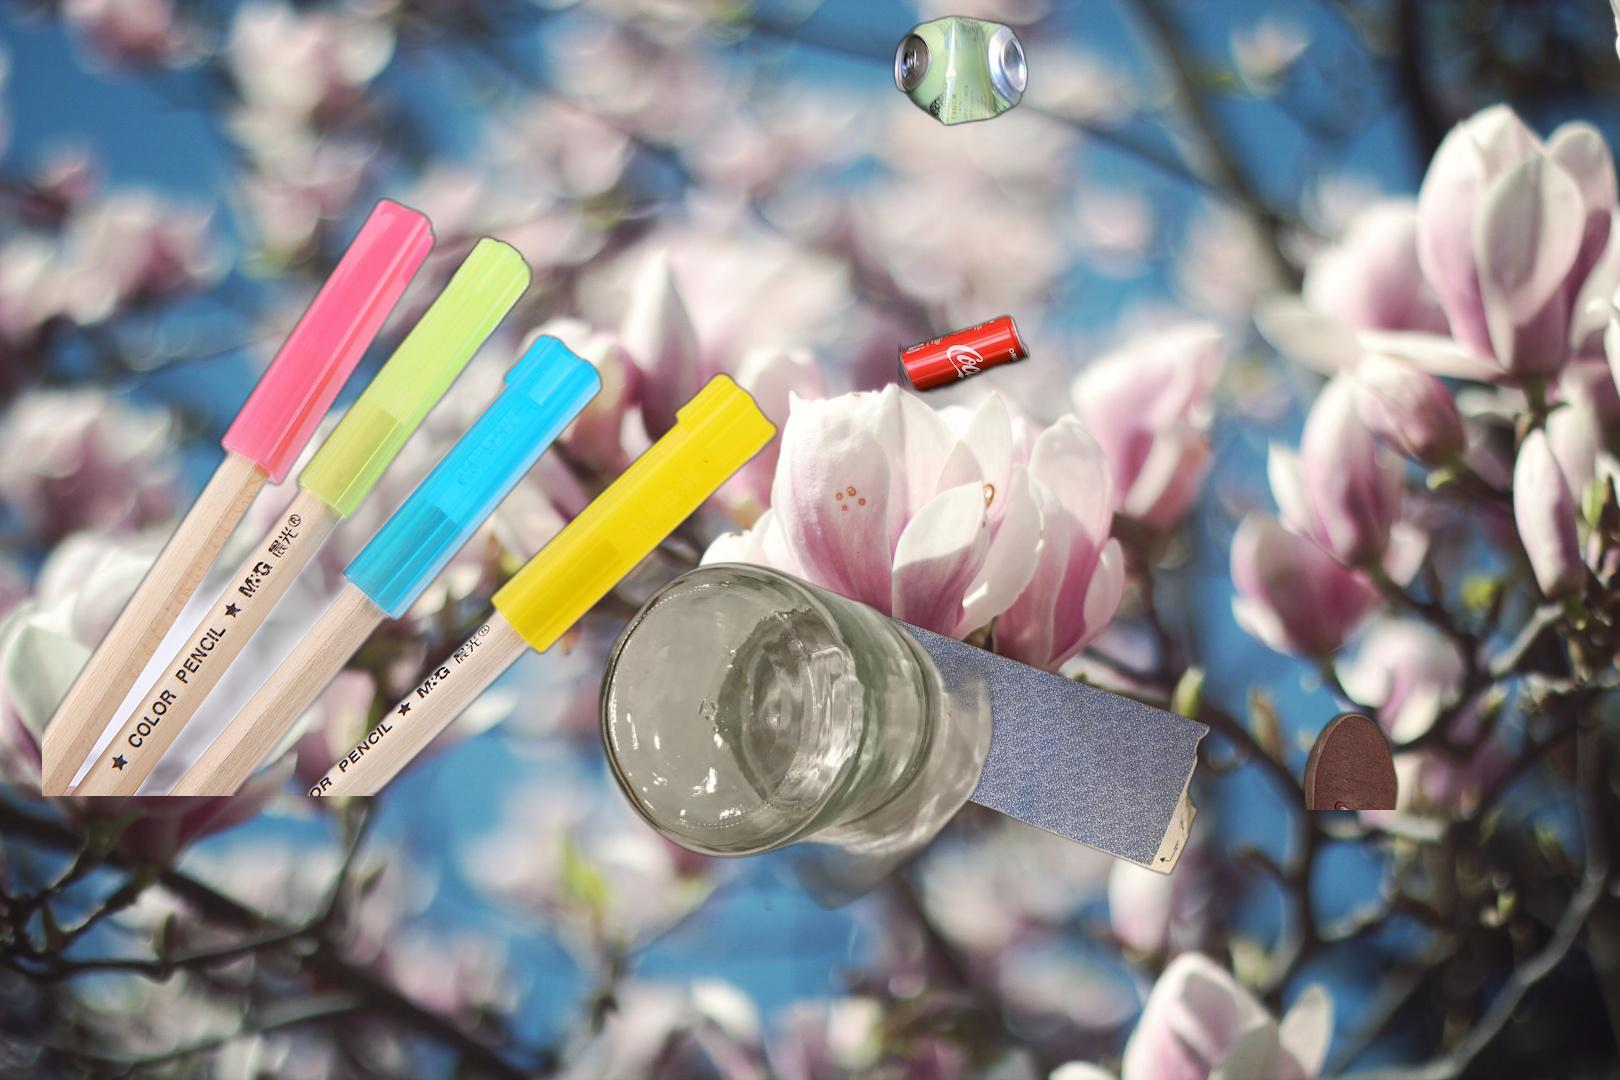glass: (594, 559, 1016, 911)
metal-cans: (898, 127, 1410, 810), (890, 10, 1031, 133)
paper: (783, 565, 1221, 879)
penholder: (42, 190, 785, 796)
